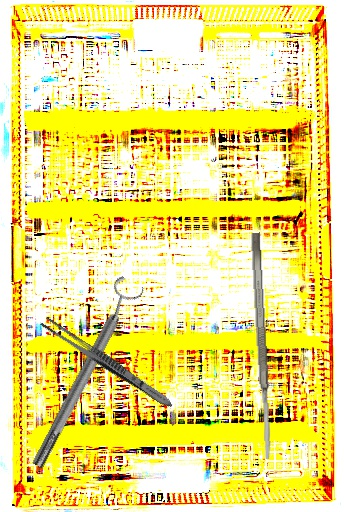Dressing Forceps: (37, 314, 177, 412)
Fixation Ring: (21, 274, 148, 473)
Spatula Surgical: (249, 232, 274, 460)
